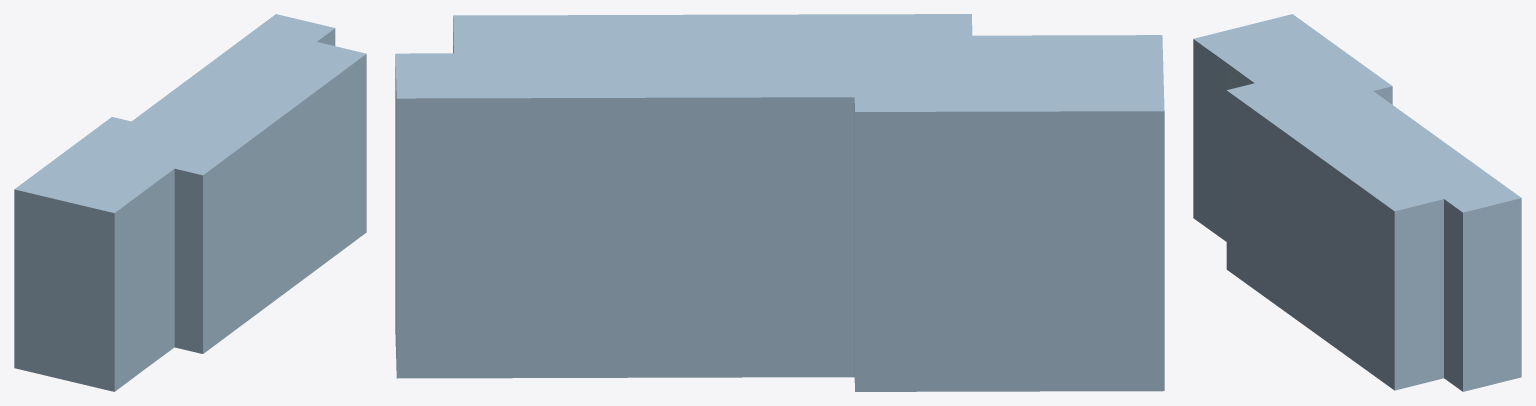
Rendered from osm_way_225242513.glb.
The picture shows the model from 3 angles, left to right: view 1: azimuth 30°, elevation 25°; view 2: azimuth 150°, elevation 25°; view 3: azimuth 270°, elevation 25°; orthographic projection. The views are drawn at different scales.
Visible parts, largest first — view 1: osm_way_225242513; view 2: osm_way_225242513; view 3: osm_way_225242513.
Part boxes in pixels (<box>): osm_way_225242513: <box>14,14,366,391</box>; osm_way_225242513: <box>395,14,1164,391</box>; osm_way_225242513: <box>1193,14,1521,391</box>.
Size of the model in its own units: 45.64 by 19.2 by 31.89.
